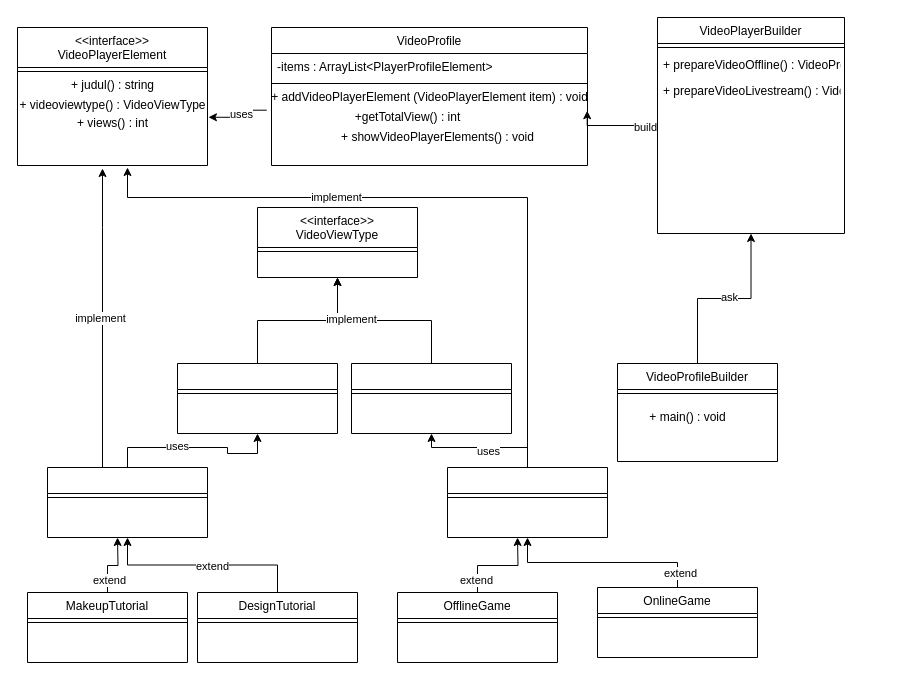
Image size: 903x680. Some labels were removed from this diagram. The shapes that lost their labels are listed below. From the top down, each one's centre as x and y in pixels, then its label:
At pixel 257 398: "OfflineVideo".
At pixel 431 398: "Livestream".
At pixel 127 502: "TutorialVlog".
At pixel 527 502: "Gaming".
